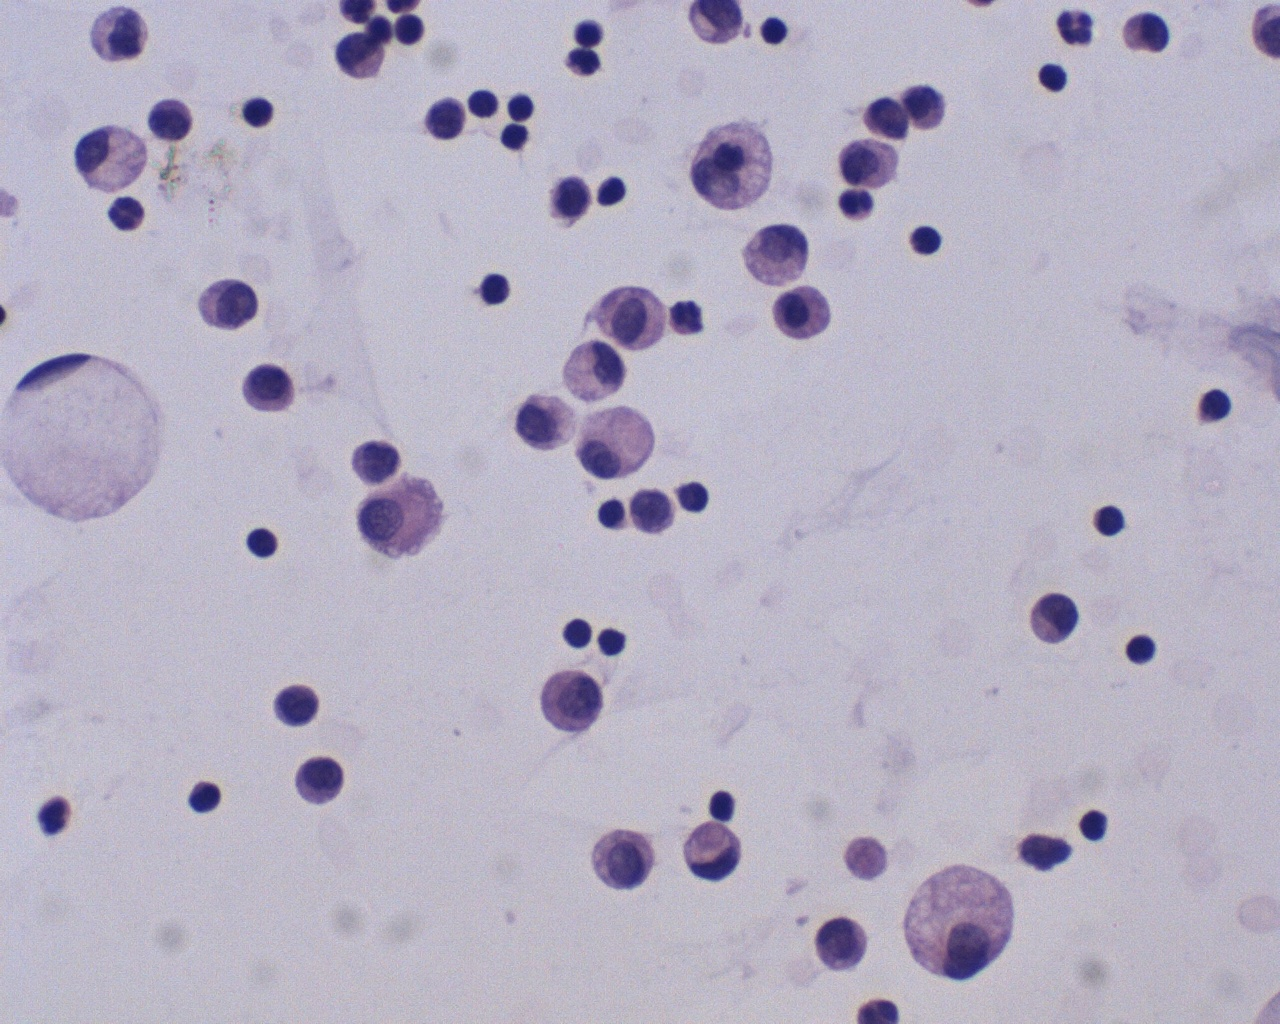ab: (536, 662, 614, 741), (584, 821, 661, 900), (811, 912, 872, 976), (858, 89, 914, 143)
histo: (1, 348, 179, 531), (900, 856, 1024, 988), (574, 401, 665, 482), (680, 819, 746, 885)
lymph: (240, 517, 285, 565), (1070, 806, 1119, 846), (236, 90, 285, 130), (1089, 501, 1134, 543), (908, 217, 949, 262), (1118, 631, 1164, 671), (474, 267, 514, 310), (465, 82, 504, 125), (186, 775, 223, 820), (675, 478, 715, 517), (754, 10, 794, 50), (1039, 59, 1071, 99)
meso: (69, 117, 155, 195), (589, 281, 667, 354), (766, 280, 834, 351), (231, 360, 303, 416)
neutro: (30, 791, 80, 847), (1055, 3, 1100, 50), (667, 295, 708, 339), (106, 190, 148, 231)
